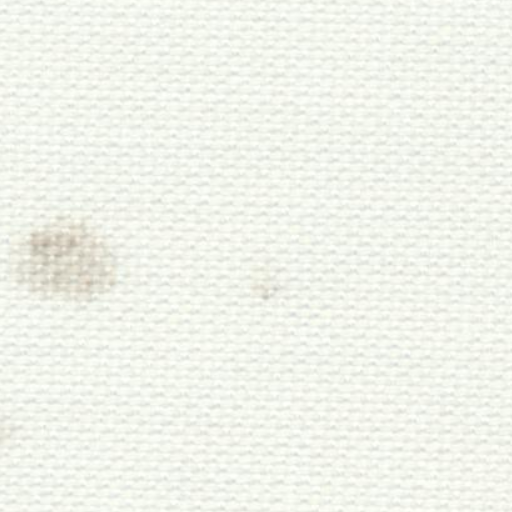WuZi: (8, 198, 134, 320), (240, 258, 296, 315)
